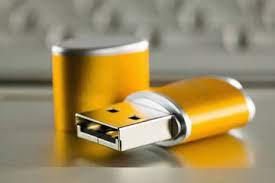Flash-drive: (75, 77, 258, 155)
